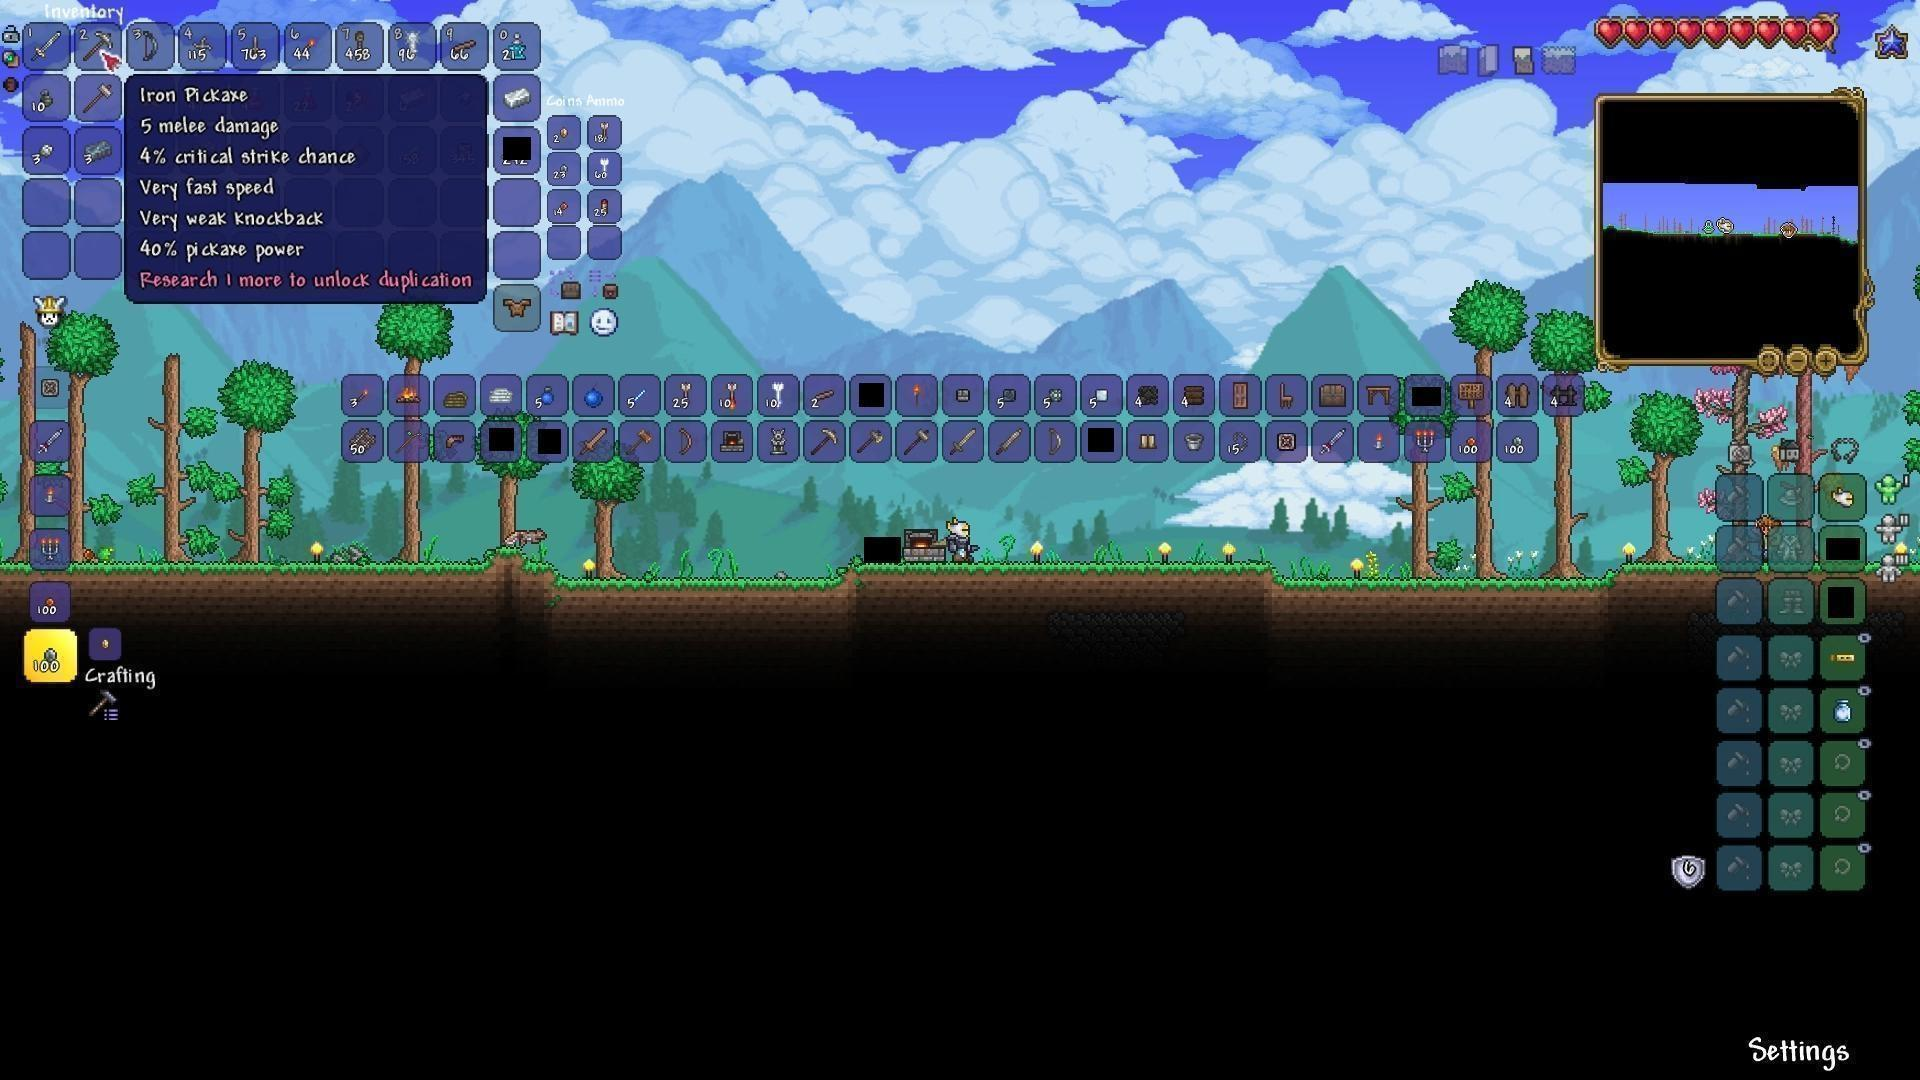breastplate: (501, 295, 534, 322)
helmet: (1824, 483, 1859, 513), (443, 430, 467, 450)
legs: (1137, 427, 1162, 458)
